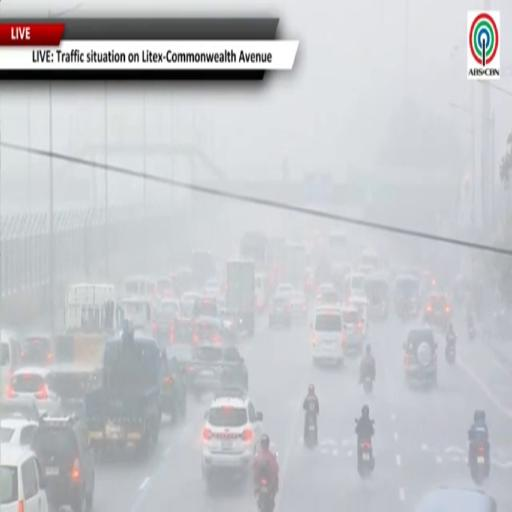car: (32, 416, 94, 511), (202, 391, 263, 485), (0, 444, 49, 511), (188, 343, 248, 397), (50, 363, 102, 413), (6, 367, 60, 414), (404, 328, 437, 386), (311, 307, 344, 365), (415, 488, 497, 511), (189, 343, 223, 398), (161, 357, 187, 422), (0, 330, 21, 390), (394, 274, 420, 321), (340, 304, 364, 354), (152, 298, 179, 342), (120, 297, 152, 331), (365, 274, 389, 319), (0, 418, 38, 445), (21, 334, 53, 366), (167, 343, 193, 382), (424, 293, 452, 329), (0, 397, 40, 421), (192, 317, 225, 344), (349, 296, 368, 339), (269, 295, 291, 328), (169, 315, 192, 344), (192, 296, 219, 319), (344, 272, 366, 298), (180, 292, 200, 319), (316, 288, 342, 306), (290, 291, 307, 318), (155, 276, 173, 300), (360, 250, 379, 271), (204, 278, 221, 297), (304, 267, 315, 294), (275, 283, 294, 296), (357, 264, 375, 276), (317, 283, 335, 293)
motorcycle: (469, 443, 488, 485), (358, 438, 374, 477), (358, 440, 374, 476), (258, 478, 274, 511), (304, 413, 317, 447), (445, 343, 455, 364), (363, 375, 372, 394), (468, 326, 476, 341)
truck: (24, 283, 122, 413), (85, 330, 166, 456), (225, 261, 255, 338), (240, 232, 269, 271), (285, 243, 306, 289), (191, 249, 215, 287)
